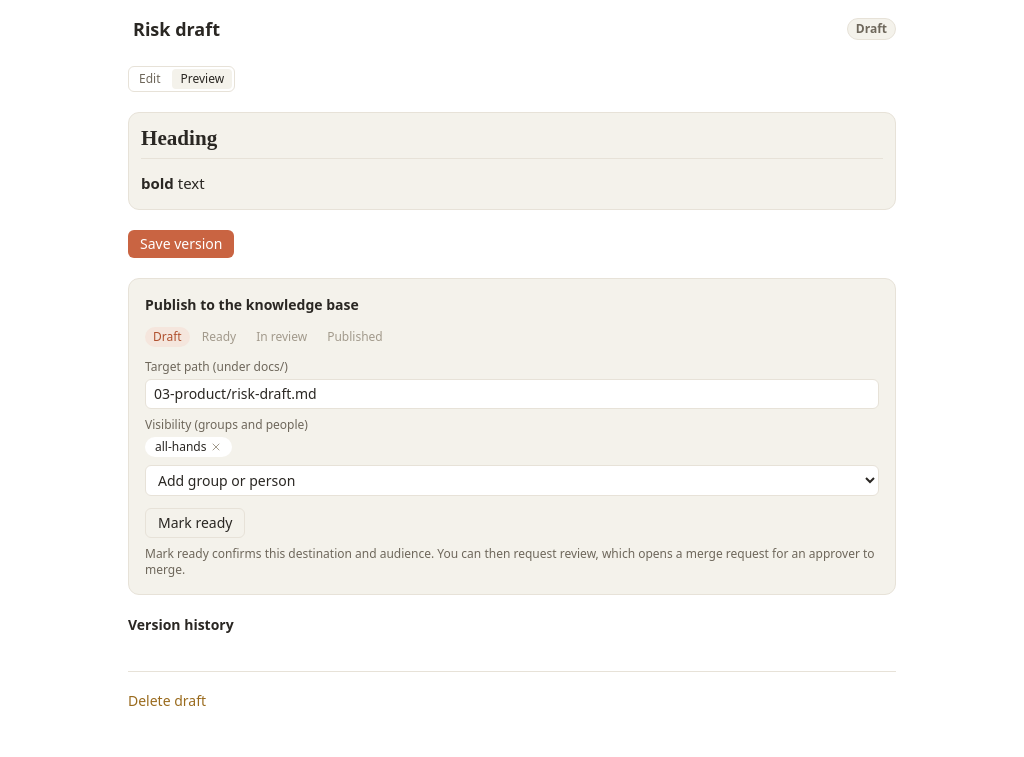
ArtifactEditor › opens on the rendered markdown preview and toggles to an edit textarea
The image size is (1024, 757).
// Edit reveals the raw textarea for authoring.
Click the button "edit" at {"x": 150, "y": 79}, box top-left (131, 69), bottom-right (168, 89)
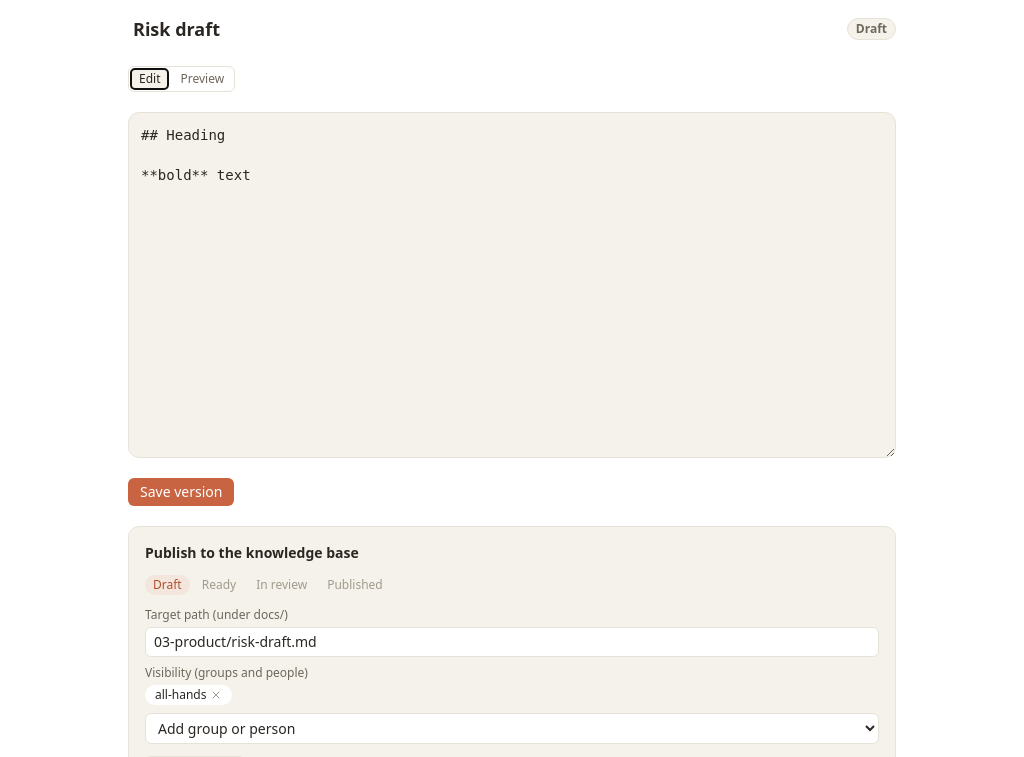
Now the text box named "Artifact body" is shown, box top-left (128, 112), bottom-right (896, 458)
